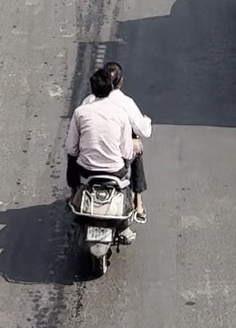BikeWithRider: (60, 59, 155, 282)
NoHelmet: (84, 67, 118, 101), (101, 59, 128, 90)
